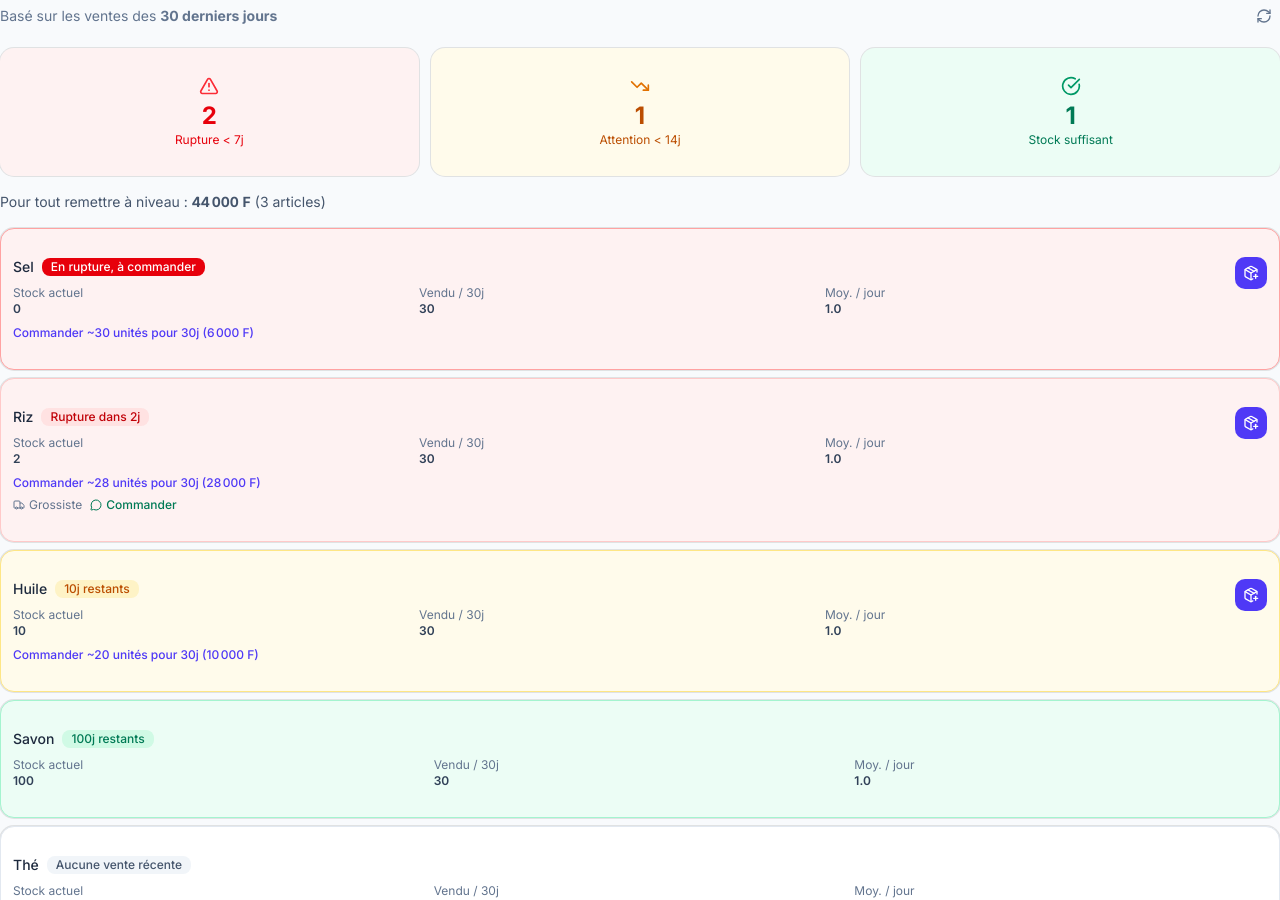
Prévisions — gestes B2B › le réassort pré-remplit la quantité suggérée
The width and height of the screenshot is (1280, 900).
Click the button named "Réapprovisionner Riz": coordinates (1251, 423) [1235, 407, 1267, 439]
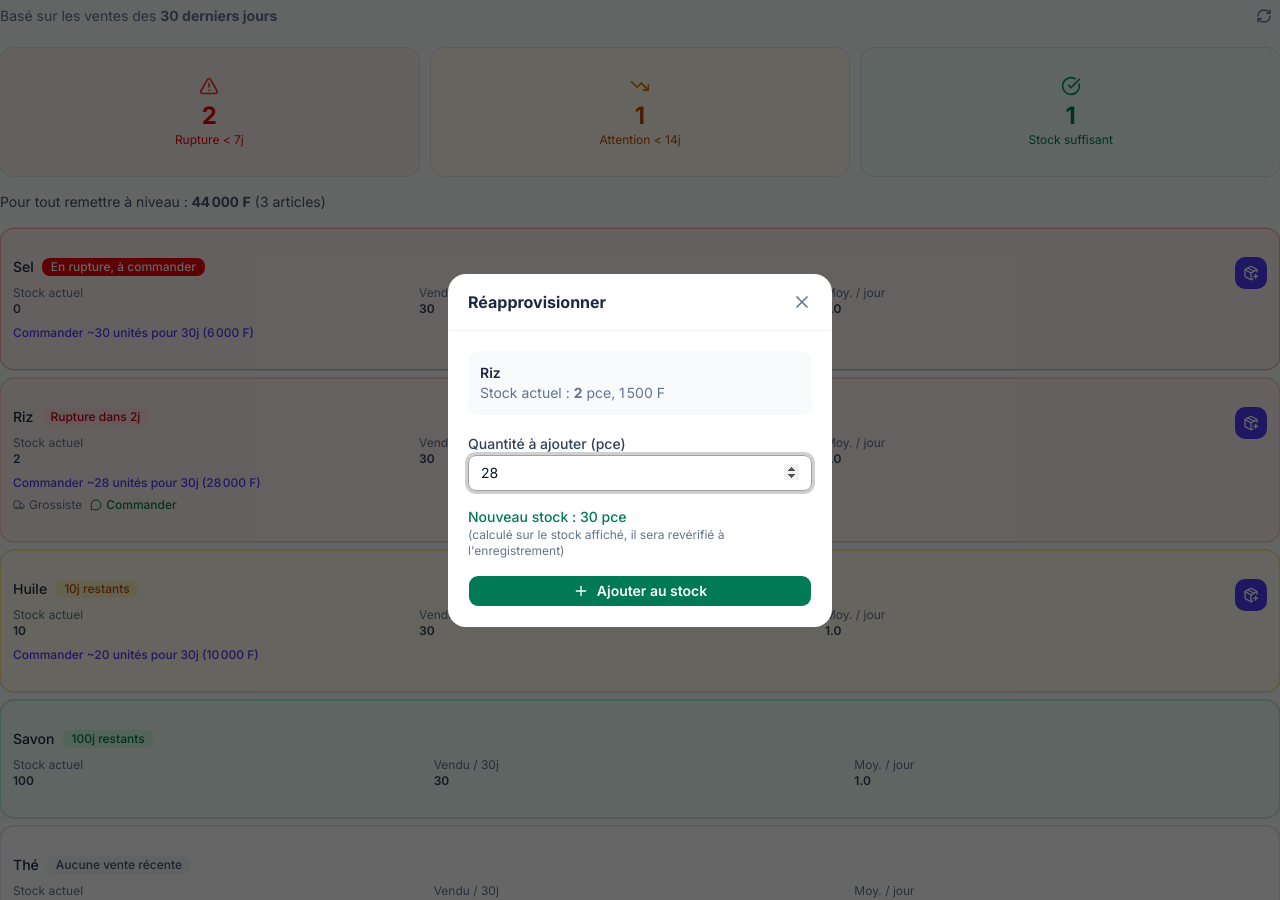
expect the number field showing "28" is shown: met, box [468, 454, 812, 490]
